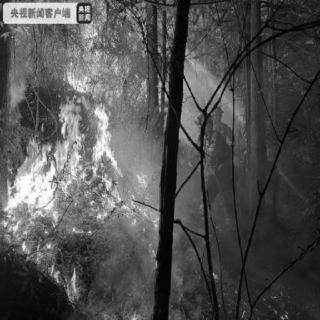Fire: (9, 18, 127, 312)
